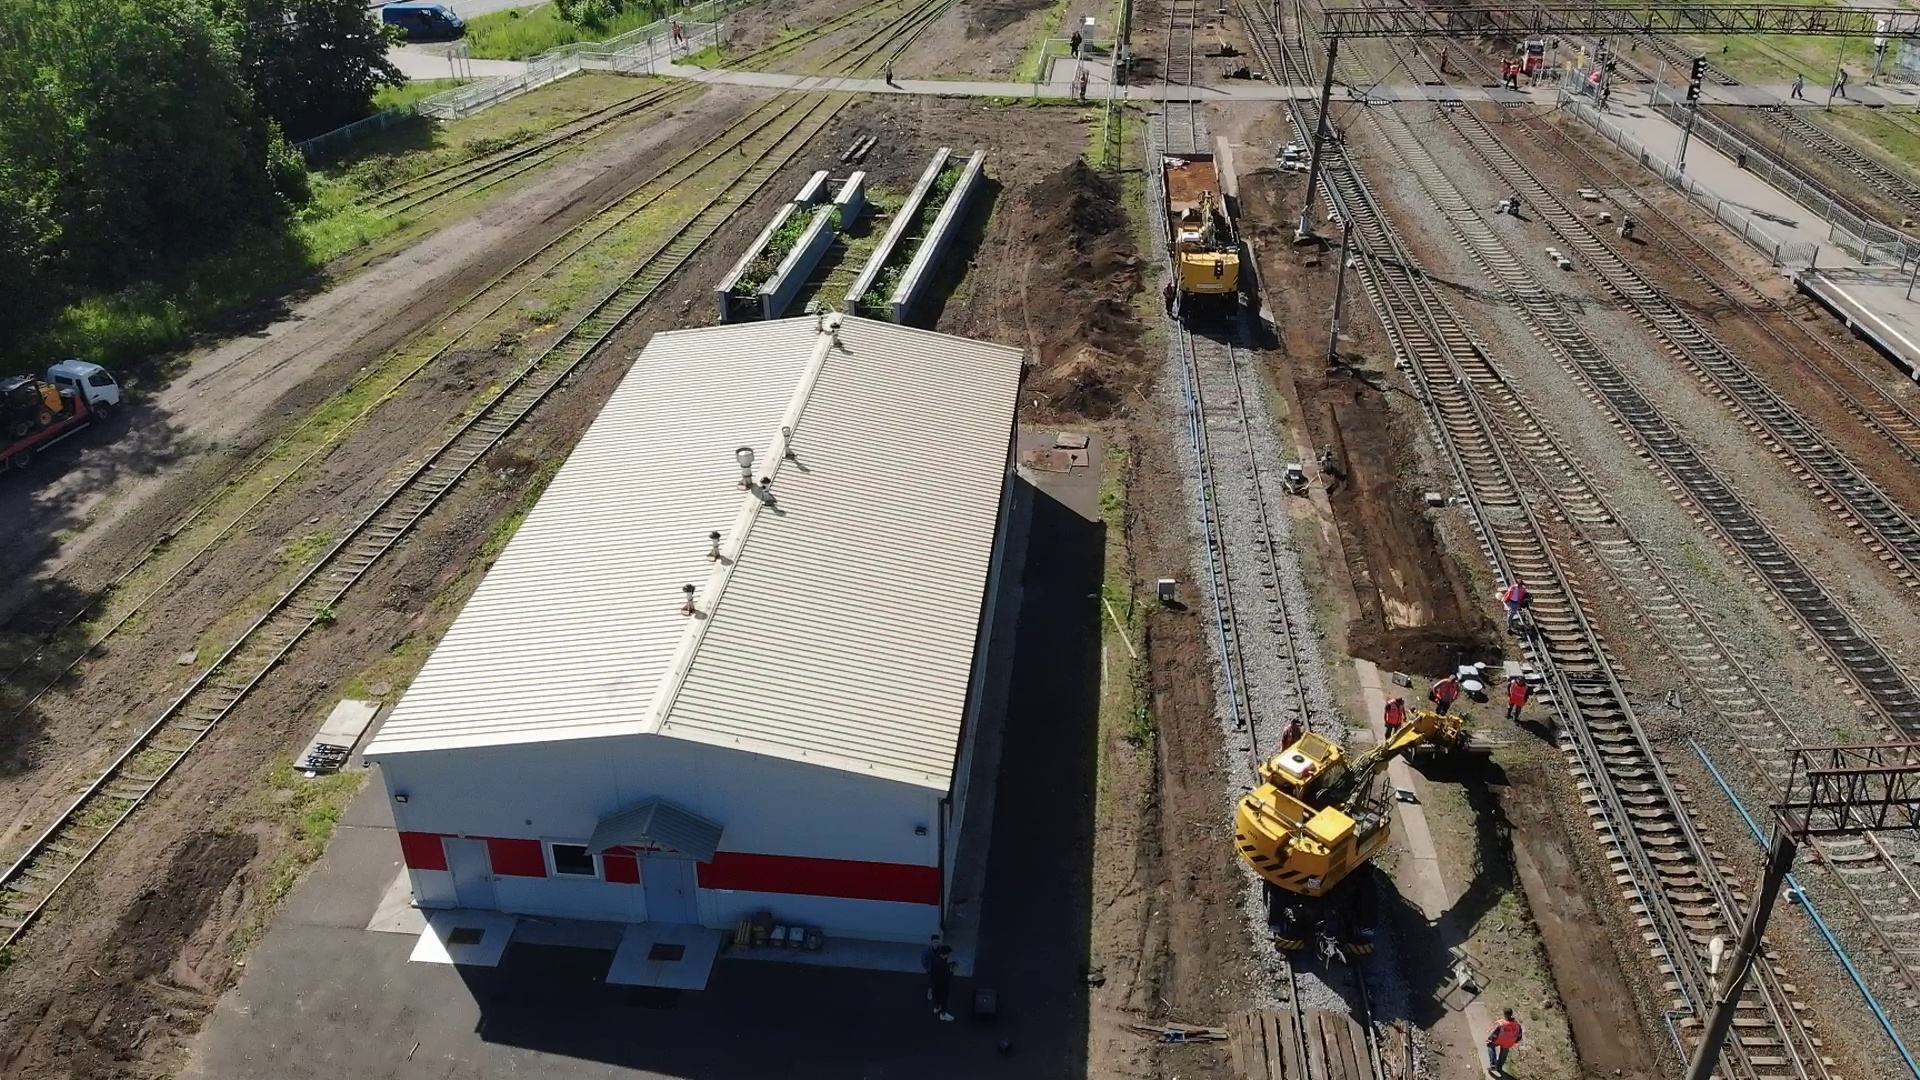kjtv: (1238, 727, 1404, 951), (1177, 246, 1247, 320)
